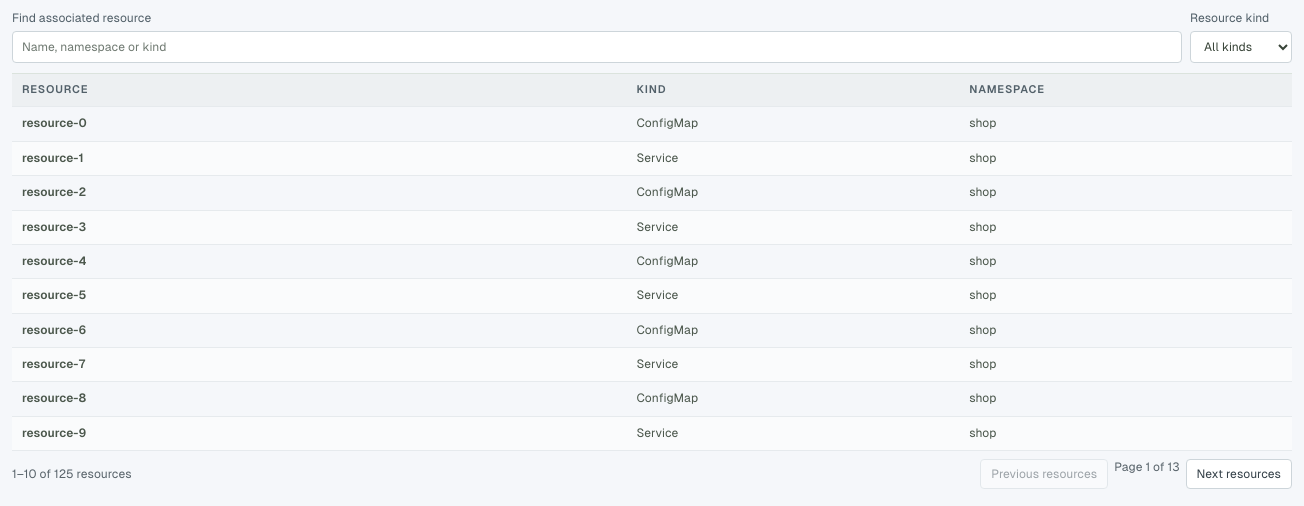
Test: keeps large dependency sets paginated and searchable without rendering a card per resource
Expected: the text "1–10 of 125 resources" is shown, [12,466,132,483]
Click the button "Next resources".
click(1239, 474)  # box [1186,459,1292,489]
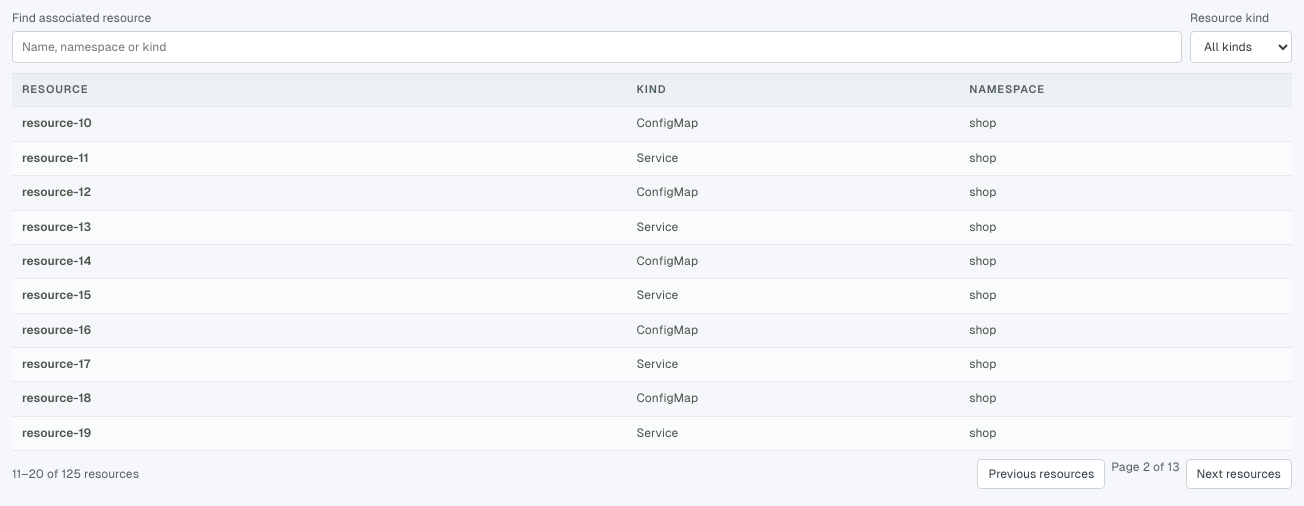
Expected: the text "11–20 of 125 resources" is shown, [12,466,139,483]
Type "resource-124" into the search field.
click(597, 47); type("resource-124")  # box [12,31,1182,63]
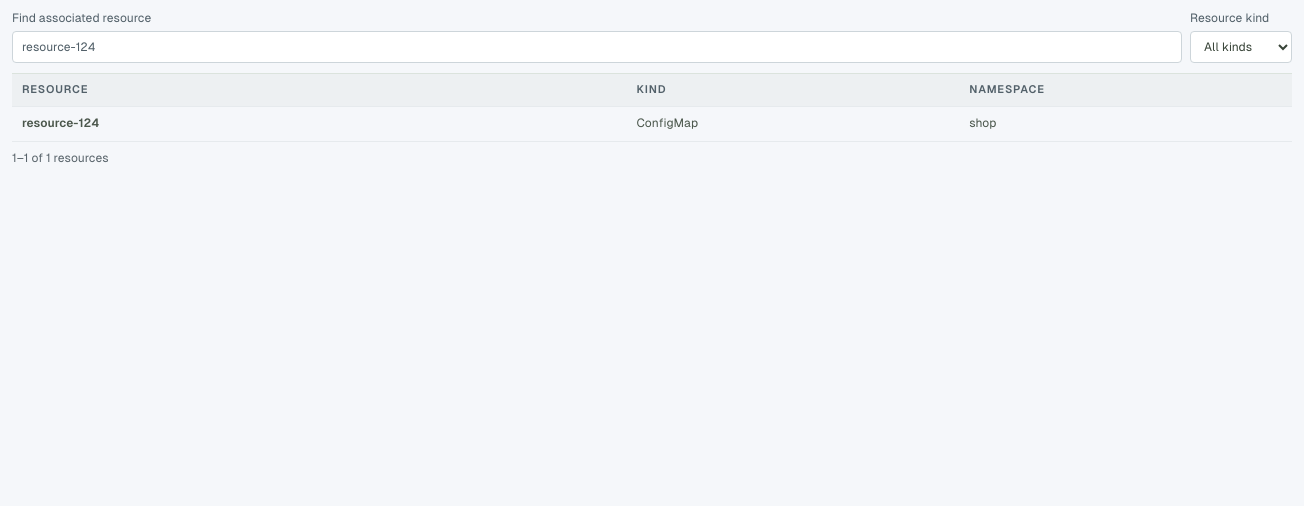
Expected: the text "resource-124" is shown, [12,107,626,141]
Expected: the text "1–1 of 1 resources" is shown, [12,150,109,167]
Expected: the button "Next resources" is gone
